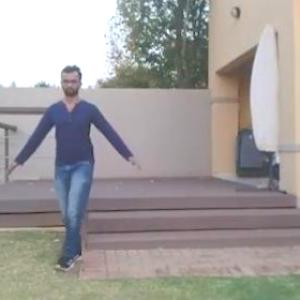land: (10, 62, 148, 272)
